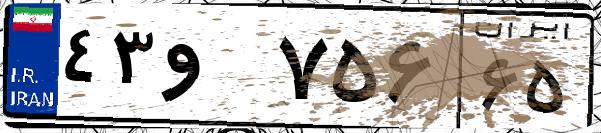3: (110, 28, 158, 98)
4: (57, 26, 110, 100)
5: (330, 28, 385, 110), (525, 38, 570, 115)
6: (385, 28, 445, 110), (475, 38, 525, 113)
7: (270, 28, 330, 110)
و: (158, 20, 270, 120)
